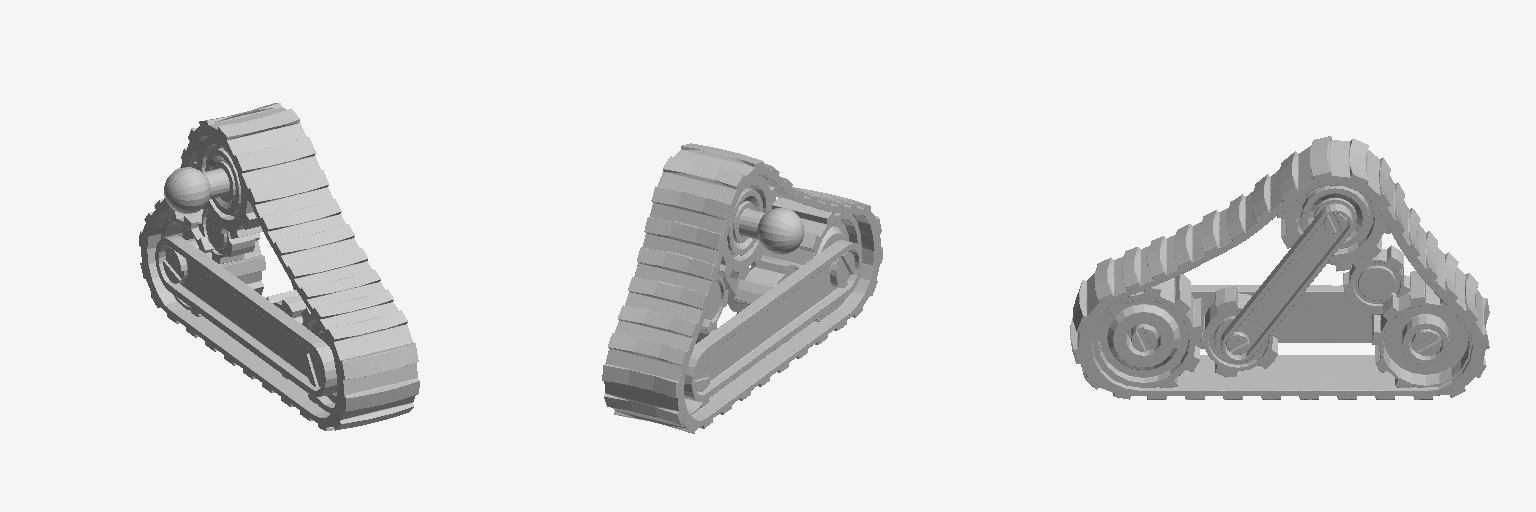
The model's file is WALLE_E_LEFT_LEG_HOLLOW_1MM.obj.
3 views of the same model, side by side, from view 1: azimuth 30°, elevation 25°; view 2: azimuth 150°, elevation 25°; view 3: azimuth 270°, elevation 25° (orthographic).
Size of the model in its own units: 17.97 by 32.02 by 53.35.